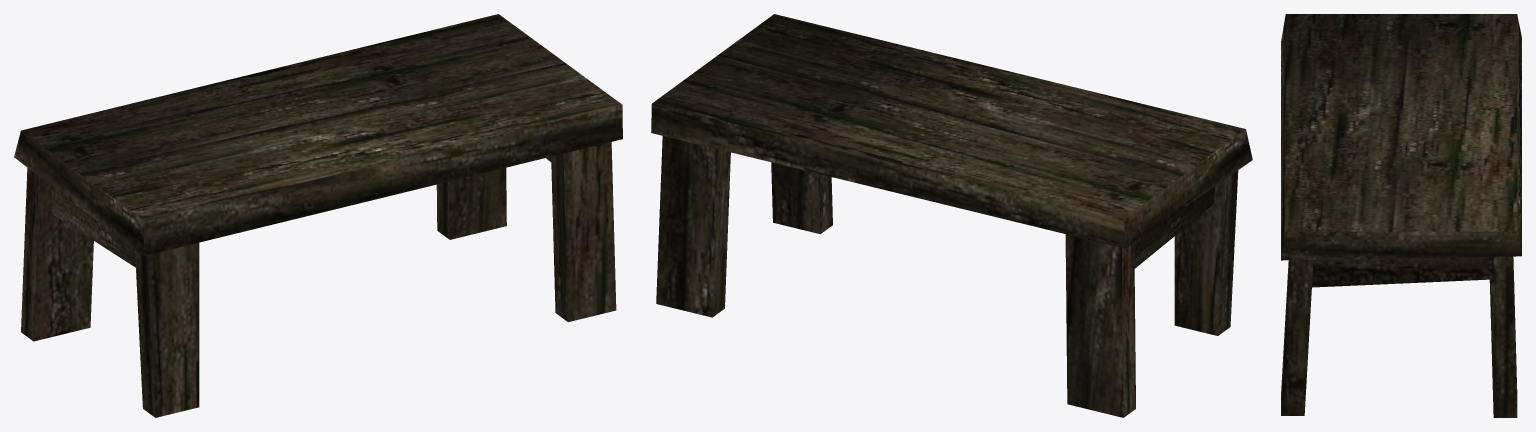
File: OC_TABLE_V3.glb
The picture shows the model from 3 angles, left to right: view 1: azimuth 30°, elevation 25°; view 2: azimuth 150°, elevation 25°; view 3: azimuth 270°, elevation 25°; orthographic projection. The views are drawn at different scales.
Parts seen in each view (by area): view 1: Mesh; view 2: Mesh; view 3: Mesh.
Part boxes in pixels (bbox=[...]): Mesh: bbox=[14, 14, 622, 417]; Mesh: bbox=[651, 14, 1252, 417]; Mesh: bbox=[1281, 14, 1521, 417].
Size of the model in its own units: 2.2 by 0.88 by 1.02.
Materials: 1 (1 with a texture image).
